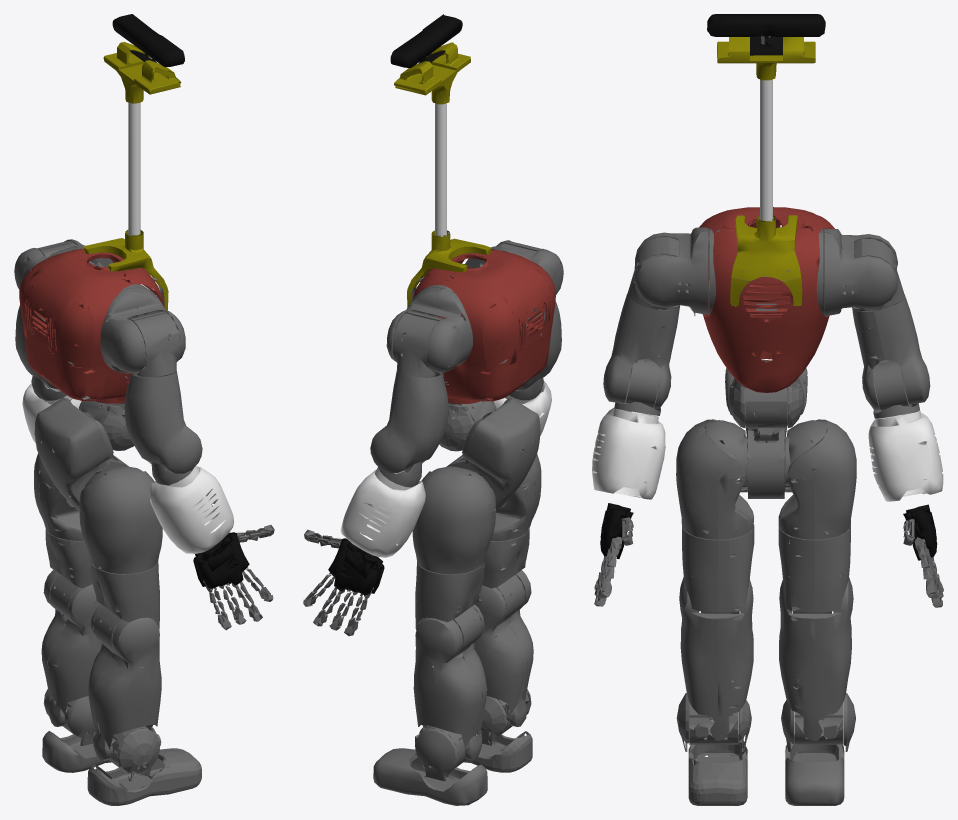
File: all_visual.dae
3 renders of one model, left to right at view 1: azimuth 30°, elevation 25°; view 2: azimuth 150°, elevation 25°; view 3: azimuth 270°, elevation 25°, orthographic. The views are drawn at different scales.
Parts seen in each view (by area): view 1: node, node_002, node_001_001, node_008, node_004, node_009, node_007, node_005, node_003, node_006, node_002_001, node_008_001 (+1 smaller); view 2: node, node_002, node_002_001, node_008_001, node_004, node_010, node_001, node_005, node_001_001 (×2), node_003, node_006, node_008; view 3: node, node_002, node_001_001 (×2), node_002_001, node_008, node_008_001, node_003, node_005, node_004, node_006, node_001_002, node_007 (+3 smaller).
Boxes of the visible parts, x1,y1,x2,y2 form: node: (14, 55, 201, 805); node_002: (19, 248, 164, 403); node_001_001: (102, 311, 202, 473); node_008: (149, 465, 233, 553); node_004: (103, 42, 181, 103); node_009: (193, 532, 249, 588); node_007: (203, 524, 274, 630); node_005: (112, 14, 184, 68); node_003: (83, 230, 168, 310); node_006: (128, 102, 140, 235); node_002_001: (15, 241, 76, 389); node_008_001: (22, 383, 81, 443); node: (373, 56, 563, 805); node_002: (412, 249, 555, 403); node_002_001: (370, 311, 448, 473); node_008_001: (340, 467, 425, 557); node_004: (394, 42, 470, 104); node_010: (328, 538, 384, 595); node_001: (303, 529, 373, 636); node_005: (390, 14, 462, 68); node_001_001 (×2): (378, 241, 561, 487); node_003: (407, 230, 491, 307); node_006: (435, 103, 446, 236); node_008: (493, 381, 551, 436); node: (635, 34, 897, 805); node_002: (699, 207, 834, 392); node_001_001 (×2): (603, 237, 919, 418); node_002_001: (852, 239, 930, 409); node_008: (592, 408, 665, 499); node_008_001: (868, 410, 943, 501); node_003: (730, 215, 802, 306); node_005: (707, 14, 825, 55); node_004: (717, 37, 815, 80); node_006: (760, 79, 772, 221); node_001_002: (614, 359, 660, 415); node_007: (594, 517, 633, 606).
Bounding box in the file's own units: 0.3231 × 0.5444 × 1.33.
